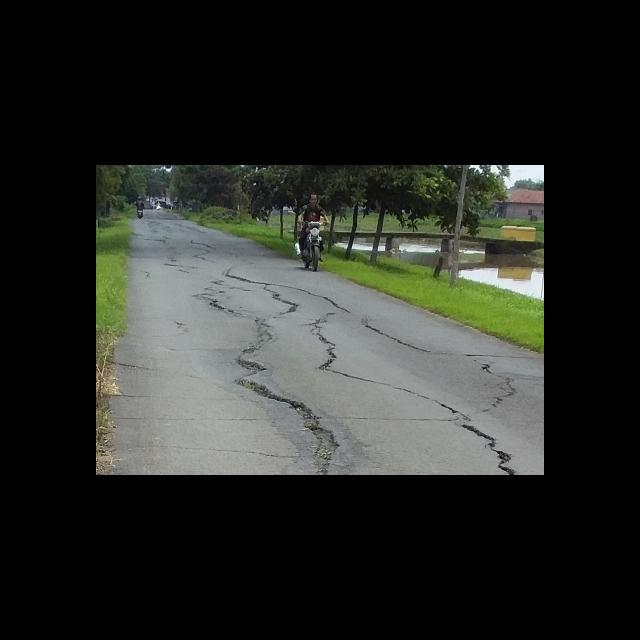retak_memanjang: (362, 377, 518, 475), (235, 270, 338, 376), (238, 372, 343, 475), (197, 284, 267, 390), (320, 294, 430, 358), (147, 223, 212, 277)
